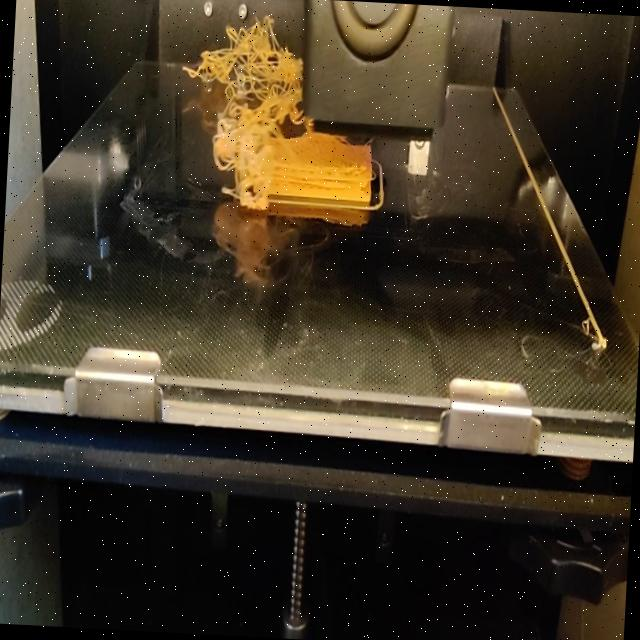spaghetti: (184, 3, 307, 104)
